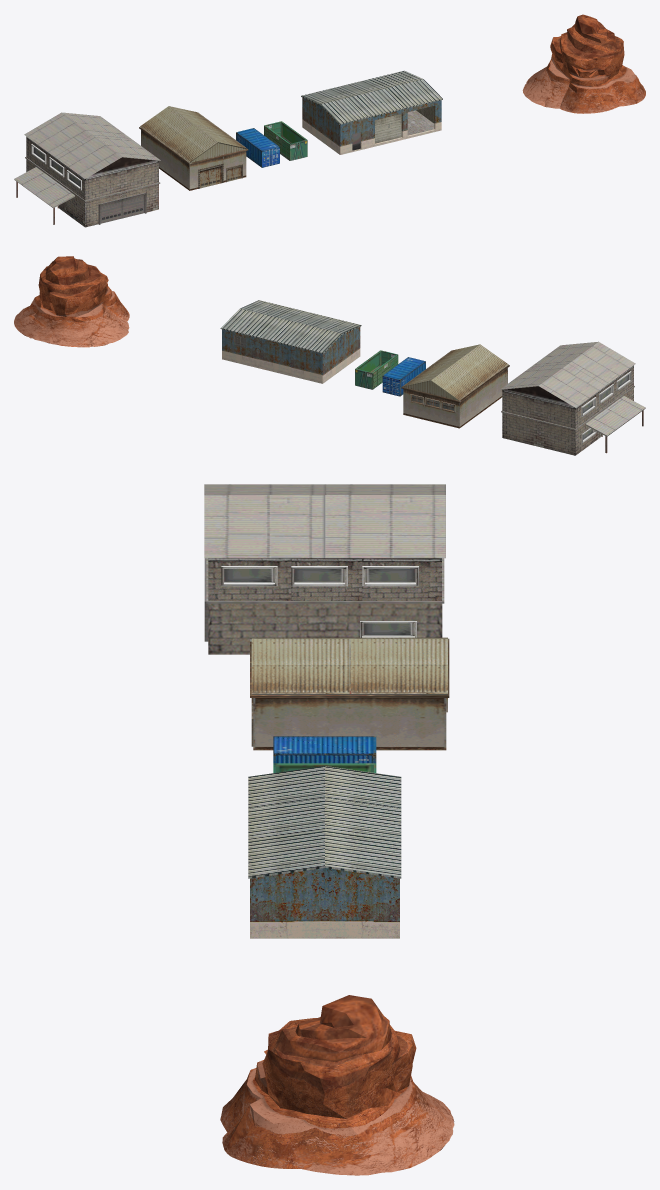
File: rocks and cottages.fbx
3 views of the same model, one above another, from view 1: azimuth 30°, elevation 25°; view 2: azimuth 150°, elevation 25°; view 3: azimuth 270°, elevation 25° (orthographic). The views are drawn at different scales.
Visible parts, largest first — view 1: Building02_Material.009_0, Cube_garage_0, P6DesertCliff-High_P6DesertCliffM_0, Building01_Material_0, Container01_Material.002_0, Trashcan01_Material.004_0; view 2: Building02_Material.009_0, Cube_garage_0, P6DesertCliff-High_P6DesertCliffM_0, Building01_Material_0, Trashcan01_Material.004_0, Container01_Material.002_0; view 3: Building02_Material.009_0, P6DesertCliff-High_P6DesertCliffM_0, Cube_garage_0, Building01_Material_0, Container01_Material.002_0.
Boxes of the visible parts, x1,y1,x2,y2 form: Building02_Material.009_0: (14, 112, 160, 227); Cube_garage_0: (301, 70, 442, 154); P6DesertCliff-High_P6DesertCliffM_0: (522, 14, 645, 113); Building01_Material_0: (139, 106, 248, 190); Container01_Material.002_0: (236, 128, 279, 167); Trashcan01_Material.004_0: (264, 121, 307, 160); Building02_Material.009_0: (500, 341, 645, 455); Cube_garage_0: (220, 300, 361, 383); P6DesertCliff-High_P6DesertCliffM_0: (14, 256, 129, 347); Building01_Material_0: (401, 344, 509, 428); Trashcan01_Material.004_0: (355, 350, 398, 389); Container01_Material.002_0: (382, 357, 425, 396); Building02_Material.009_0: (204, 484, 445, 654); P6DesertCliff-High_P6DesertCliffM_0: (220, 995, 455, 1175); Cube_garage_0: (248, 766, 401, 938); Building01_Material_0: (250, 637, 449, 750); Container01_Material.002_0: (273, 736, 376, 763).
Bounding box in the file's own units: 17390 × 2154 × 3148.
1 material, 1 textured.
